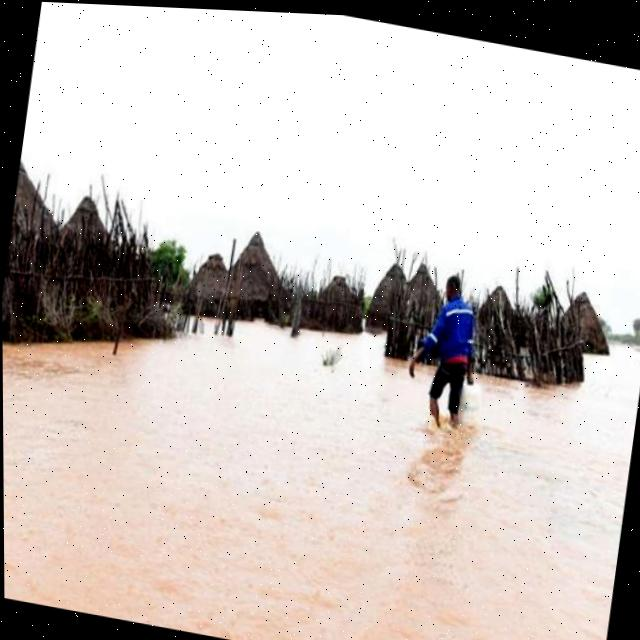civilian: (392, 243, 503, 461)
